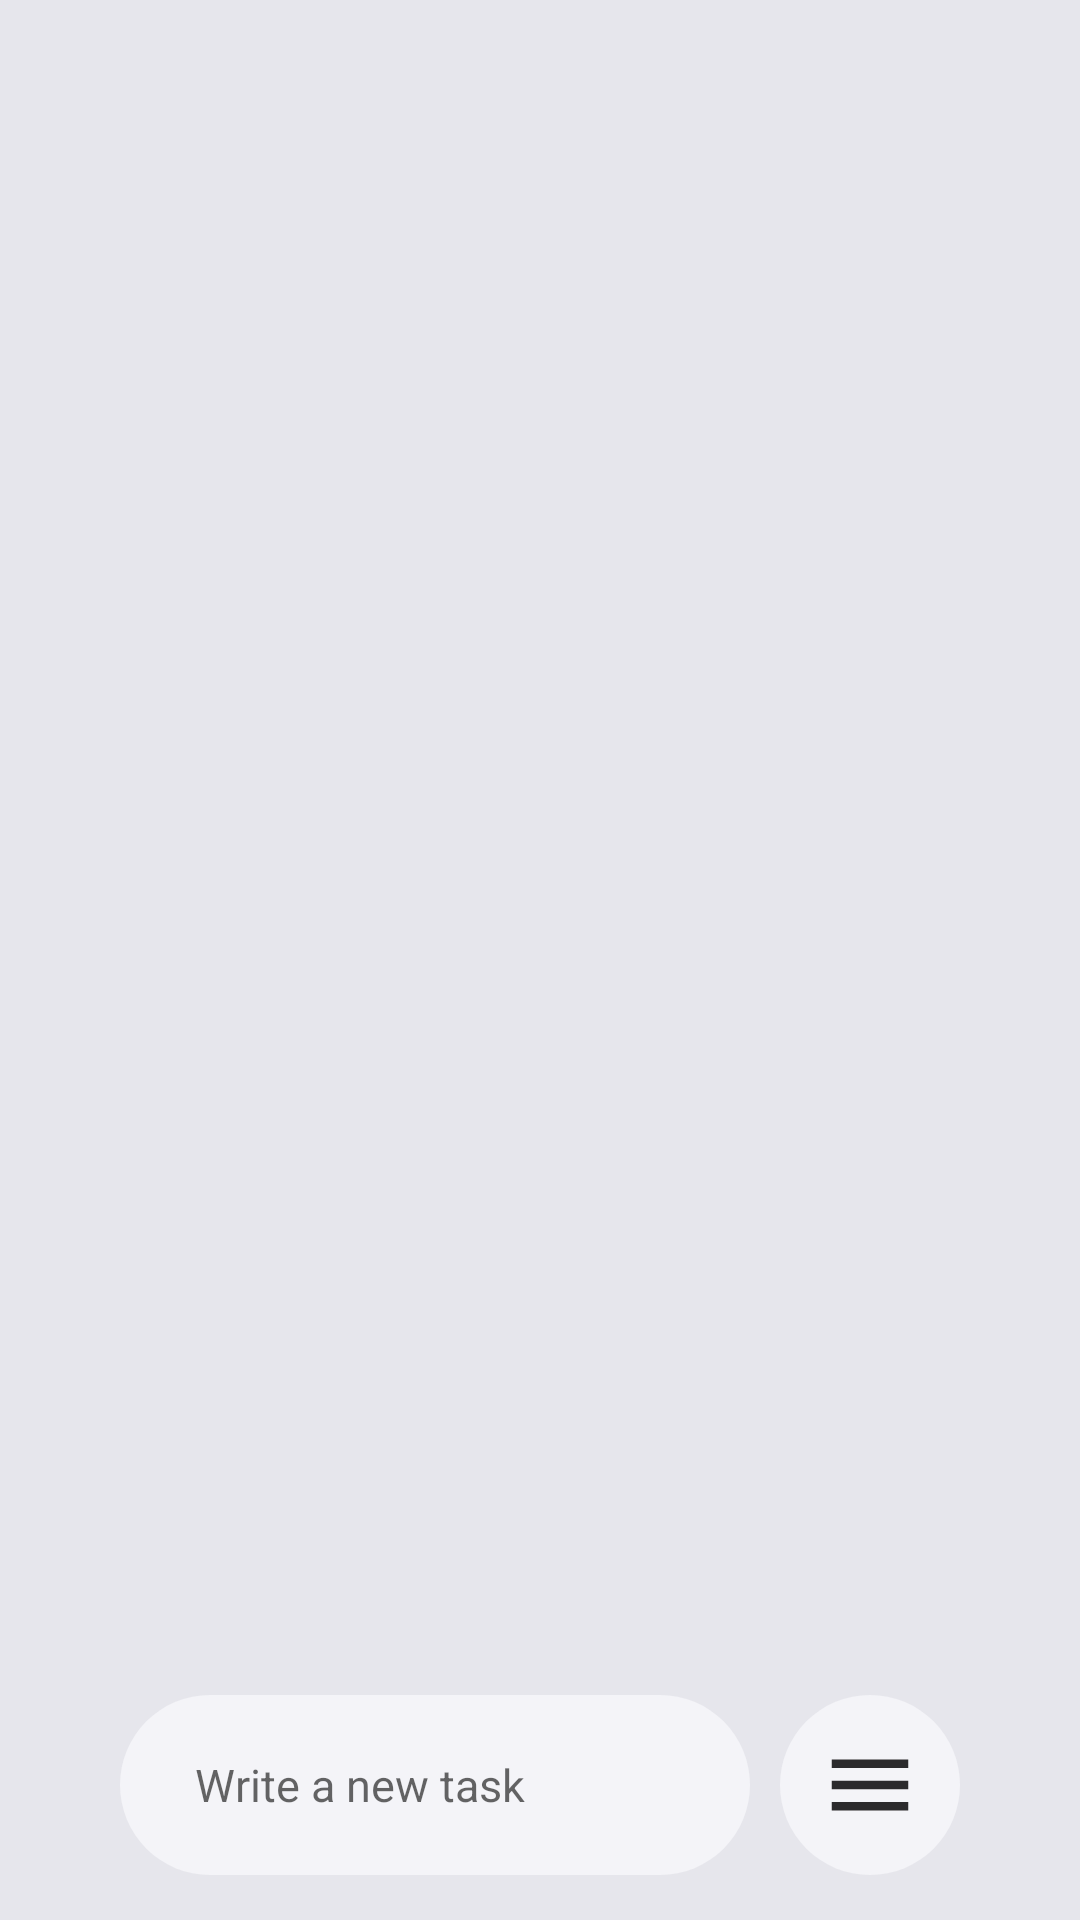

Locate icon controls on the screen. Image size 1080px×1920px, boxes as [x1, y1, x2, y2].
menu: [831, 1759, 909, 1811]
